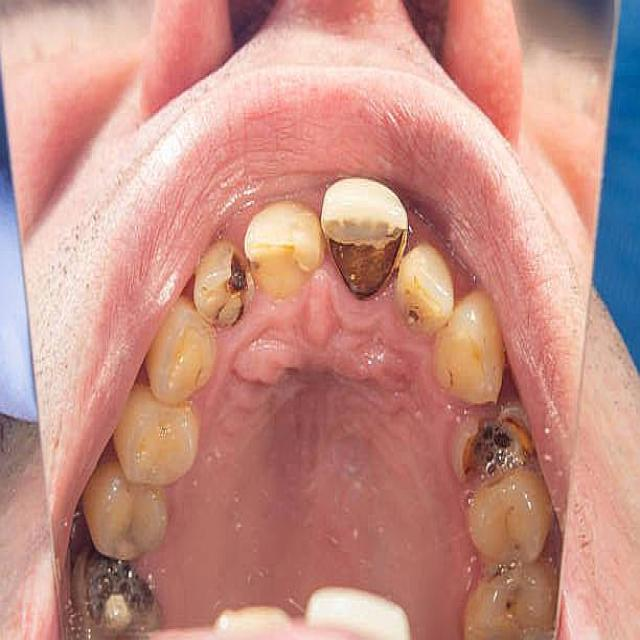caries: (64, 539, 168, 640), (452, 396, 536, 488), (326, 201, 402, 300), (203, 241, 262, 330), (485, 565, 534, 633), (399, 286, 439, 348)
